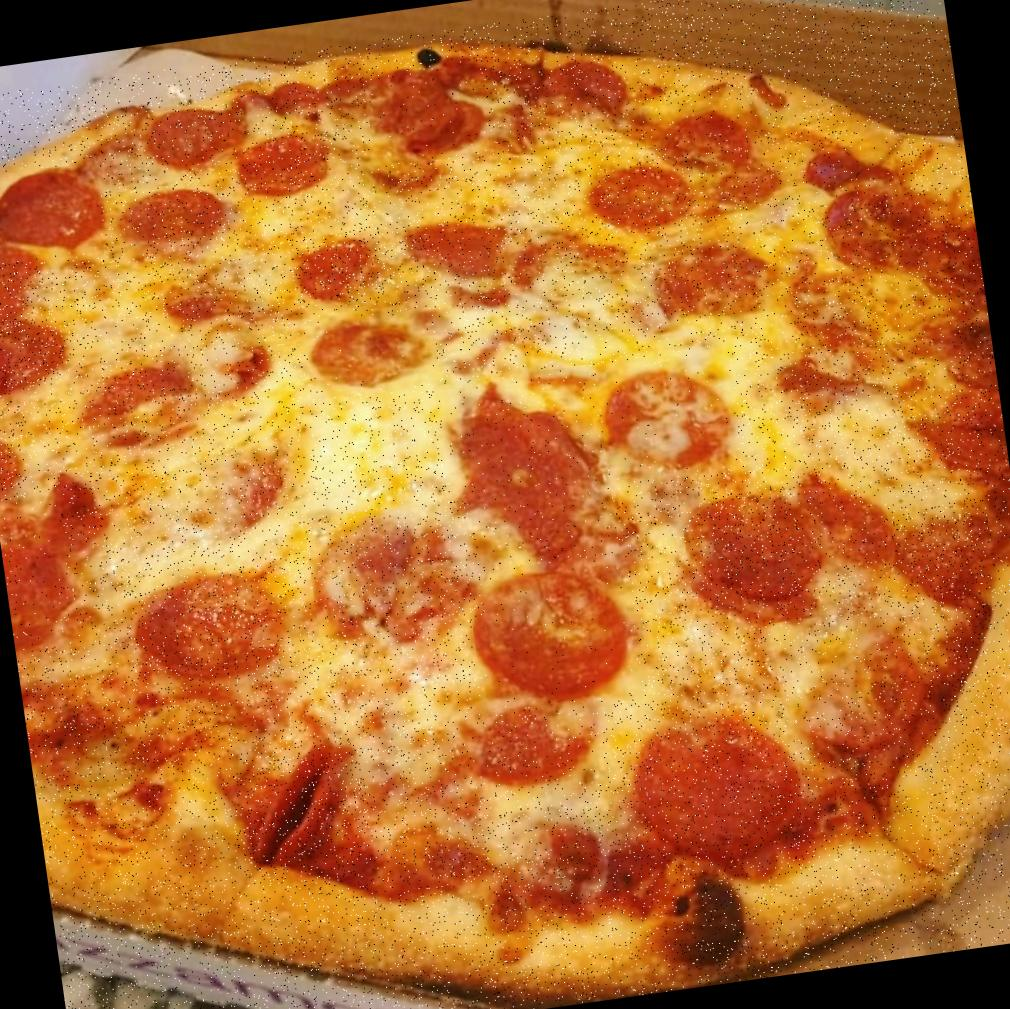Pepperoni: (437, 364, 620, 570), (622, 696, 815, 878), (467, 552, 644, 713), (304, 497, 488, 640), (772, 604, 935, 758), (125, 554, 298, 695), (223, 731, 376, 884), (885, 315, 1010, 499), (678, 470, 834, 616), (437, 678, 609, 798), (595, 346, 740, 485), (638, 220, 793, 339), (812, 164, 948, 292), (69, 350, 212, 466), (392, 196, 538, 307), (641, 92, 772, 194), (364, 65, 494, 166), (792, 466, 900, 584), (305, 306, 440, 400), (0, 489, 79, 649), (888, 496, 992, 616), (580, 142, 702, 240), (0, 161, 111, 265), (96, 177, 238, 258), (138, 95, 266, 178), (0, 231, 63, 394), (528, 44, 636, 132), (225, 125, 338, 206), (792, 130, 902, 212), (289, 227, 395, 312), (0, 429, 27, 501)
Pizza: (0, 0, 1010, 1009)
